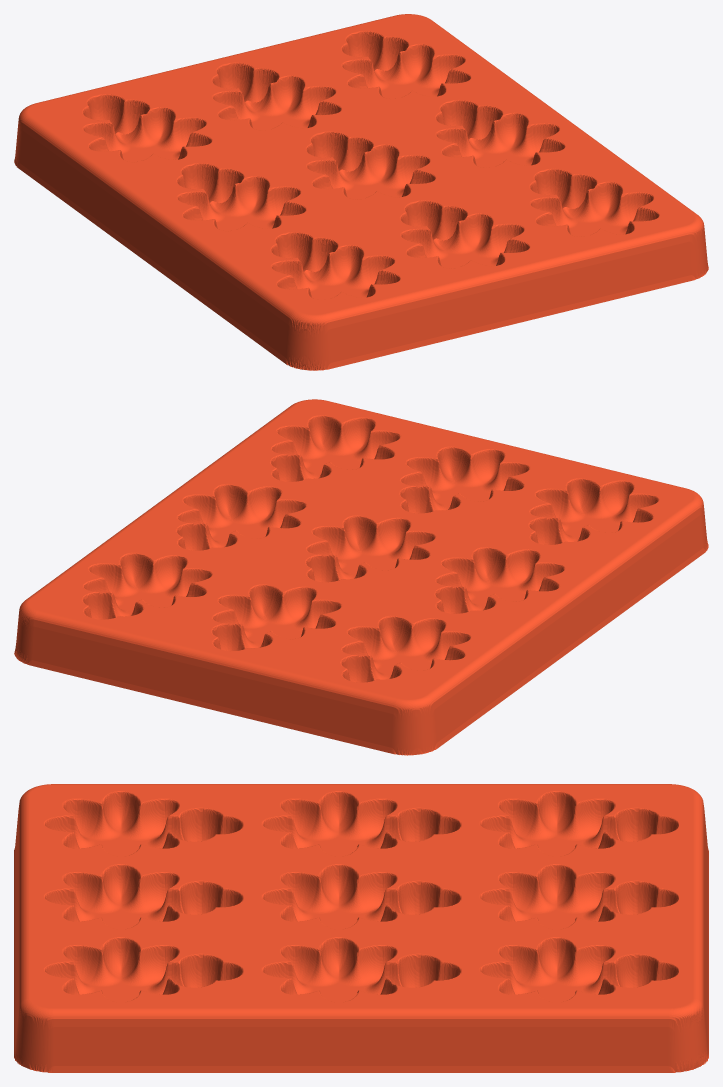
The model's file is mold.glb.
The picture shows the model from 3 angles, top to bottom: view 1: azimuth 30°, elevation 25°; view 2: azimuth 150°, elevation 25°; view 3: azimuth 270°, elevation 25°; orthographic projection. The views are drawn at different scales.
Visible parts, largest first — view 1: geometry_0; view 2: geometry_0; view 3: geometry_0.
Boxes of the visible parts, x1,y1,x2,y2 form: geometry_0: (14,14,708,370); geometry_0: (14,399,708,755); geometry_0: (14,784,708,1072).
Size of the model in its own units: 0.1273 by 0.0145 by 0.1579.
